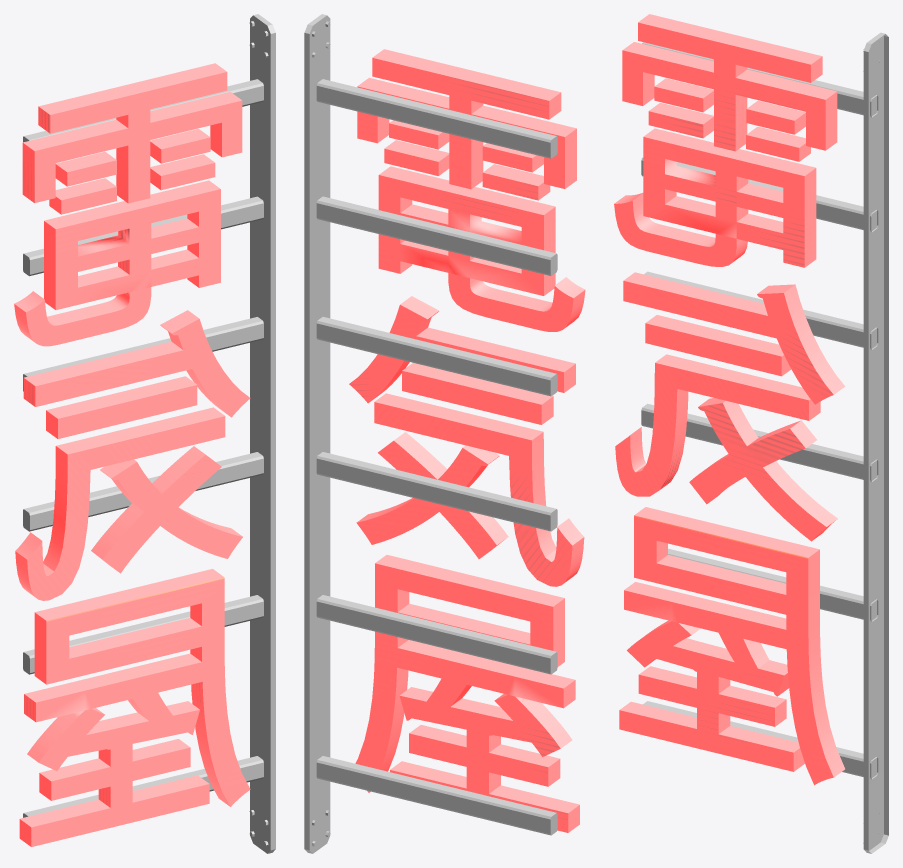
Rendered from KB3D_CBP_NeonSign_H.fbx.
The picture shows the model from 3 angles, left to right: view 1: azimuth 30°, elevation 25°; view 2: azimuth 150°, elevation 25°; view 3: azimuth 330°, elevation 25°; orthographic projection. The views are drawn at different scales.
Visible parts, largest first — view 1: KB3D_CBP_NeonSign_H_Main; view 2: KB3D_CBP_NeonSign_H_Main; view 3: KB3D_CBP_NeonSign_H_Main.
Boxes of the visible parts, x1,y1,x2,y2 form: KB3D_CBP_NeonSign_H_Main: (14,14,275,853); KB3D_CBP_NeonSign_H_Main: (304,14,585,853); KB3D_CBP_NeonSign_H_Main: (614,14,888,853).
Size of the model in its own units: 169 by 523 by 29.72.
